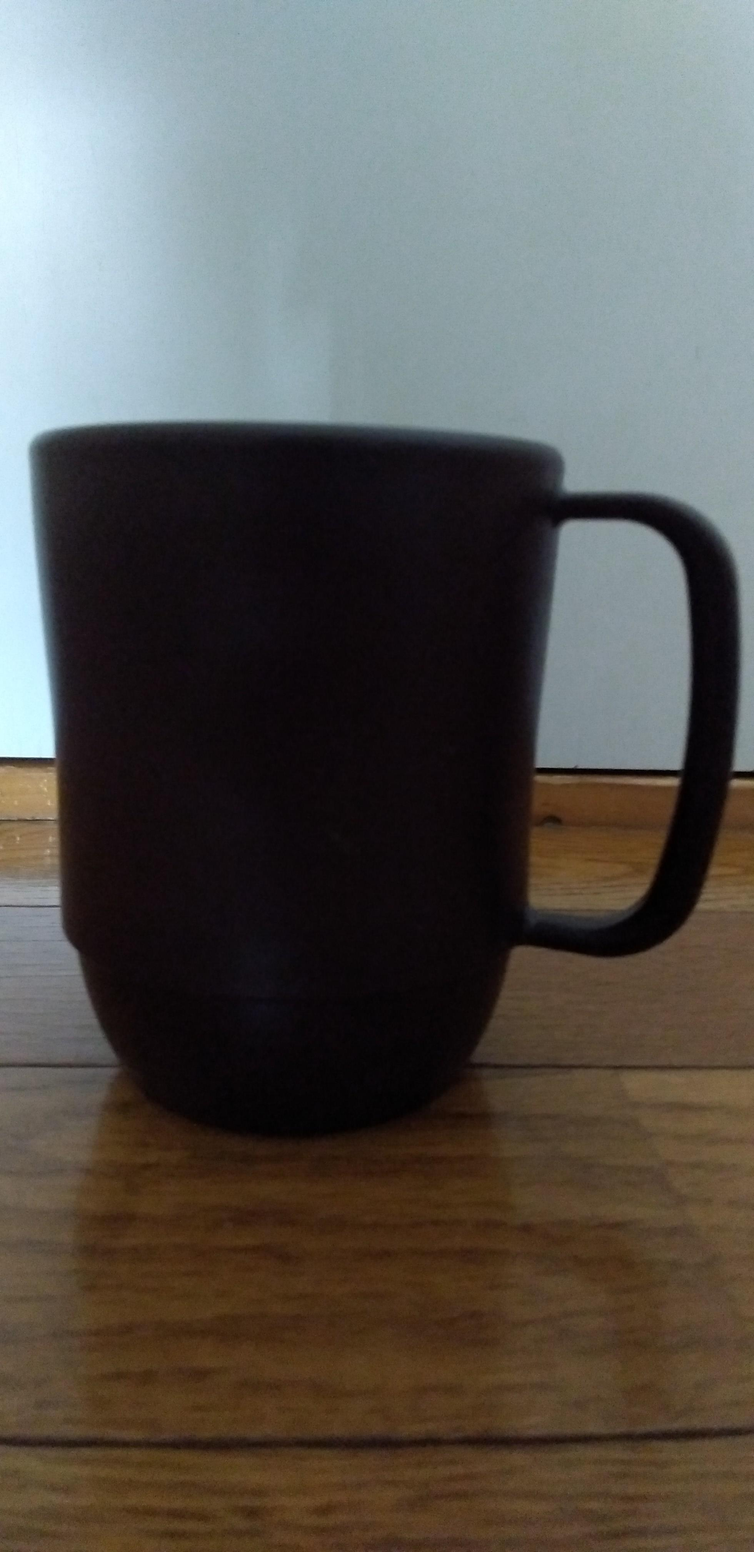mug-real100-3d100: (30, 423, 739, 1136)
